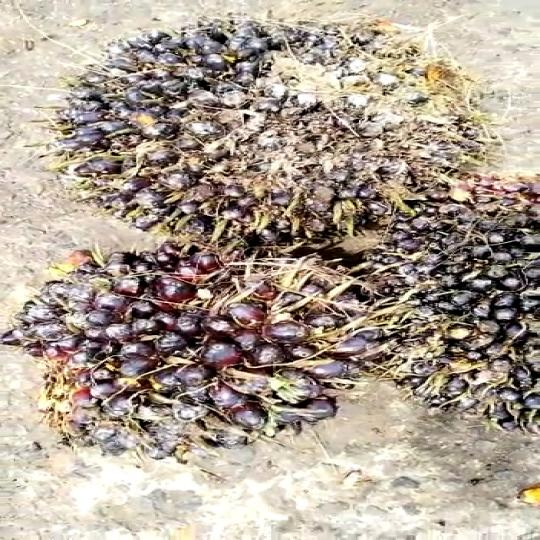mentah: (63, 18, 486, 242), (4, 237, 410, 456), (377, 174, 540, 438)
